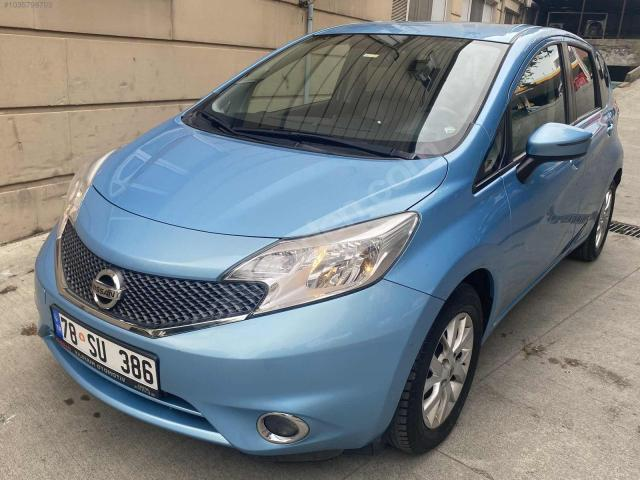plaka: (51, 308, 160, 398)
